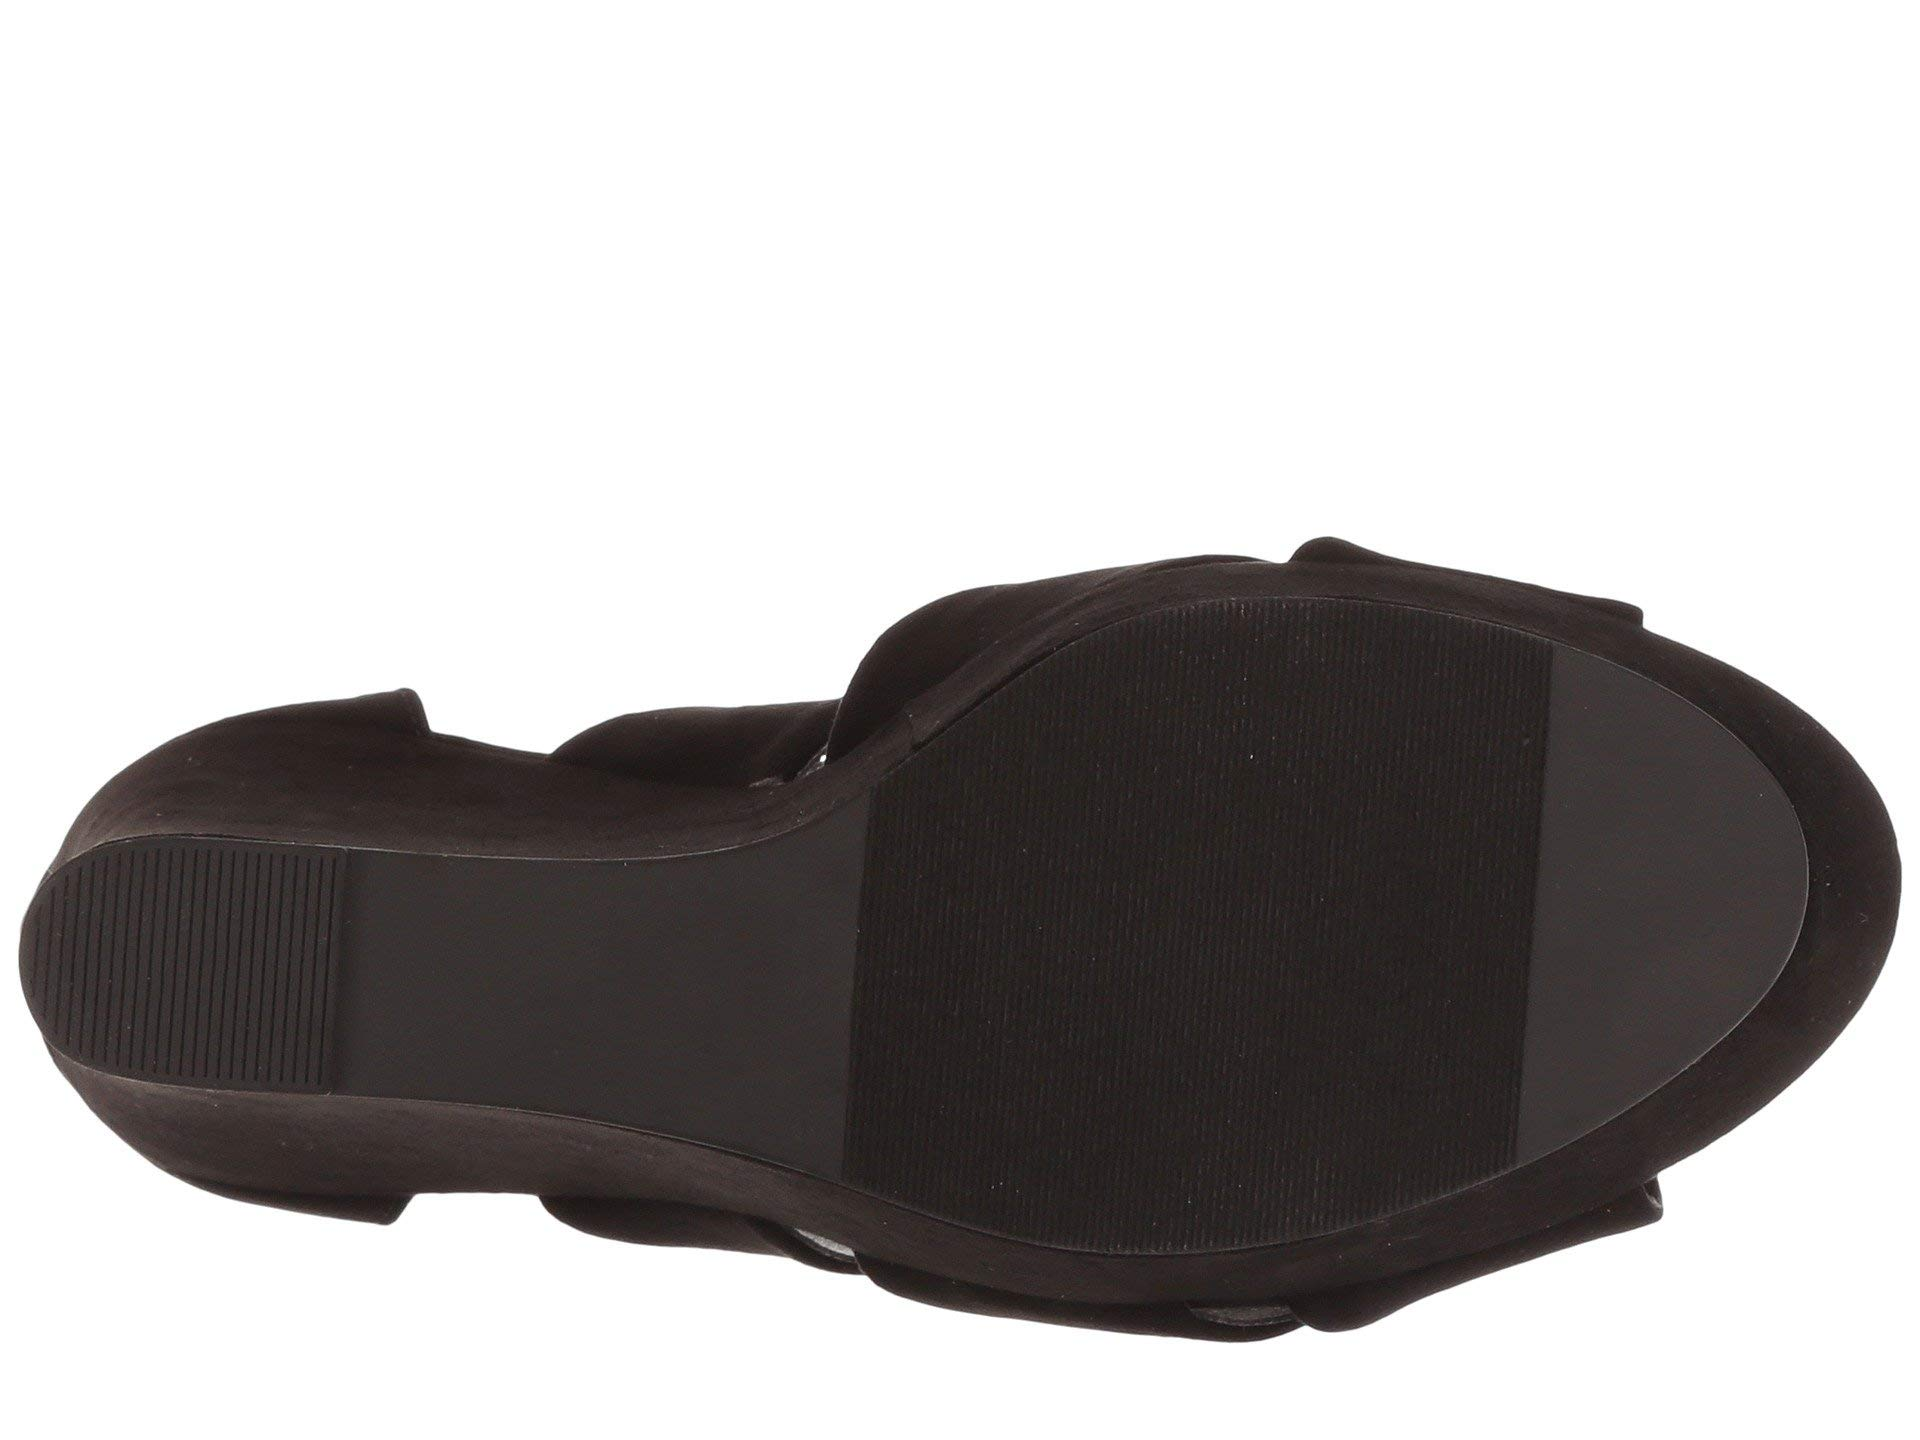line: (992, 658, 1404, 1207), (80, 849, 311, 1078)
quad: (339, 805, 866, 1175)
